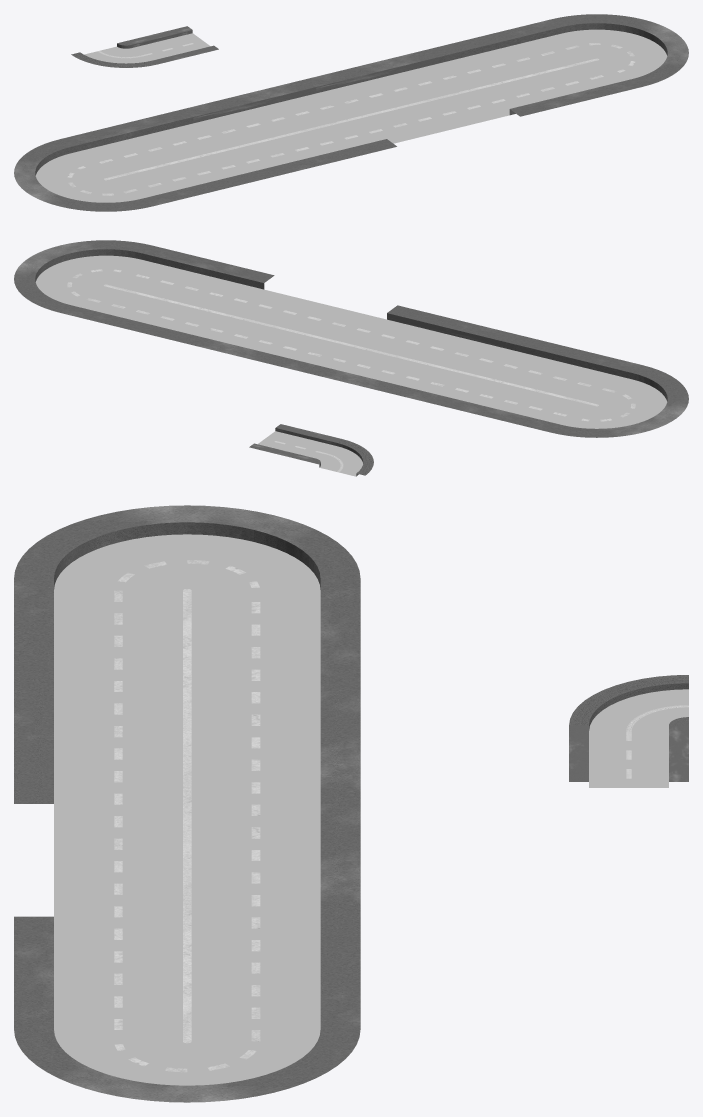
Rendered from road3.fbx.
3 renders of one model, top to bottom at view 1: azimuth 30°, elevation 25°; view 2: azimuth 150°, elevation 25°; view 3: azimuth 270°, elevation 25°, orthographic. The views are drawn at different scales.
Visible parts, largest first — view 1: Plane.001, Plane, Plane.003, Plane.002, Plane.008; view 2: Plane.001, Plane, Plane.003, Plane.002, Plane.008; view 3: Plane, Plane.001, Plane.003, Plane.002, Plane.008.
Part boxes in pixels (<box>): Plane.001: <box>428,14,688,116</box>; Plane: <box>14,109,274,211</box>; Plane.003: <box>183,79,396,176</box>; Plane.002: <box>306,49,509,143</box>; Plane.008: <box>71,26,218,67</box>; Plane.001: <box>14,240,274,342</box>; Plane: <box>428,335,688,437</box>; Plane.003: <box>305,305,519,402</box>; Plane.002: <box>183,289,386,372</box>; Plane.008: <box>249,424,373,476</box>; Plane: <box>14,505,360,703</box>; Plane.001: <box>14,916,360,1102</box>; Plane.003: <box>14,691,360,815</box>; Plane.002: <box>54,804,360,928</box>; Plane.008: <box>569,675,688,787</box>.
Bounding box in the file's own units: 10600 × 100 × 5064.
